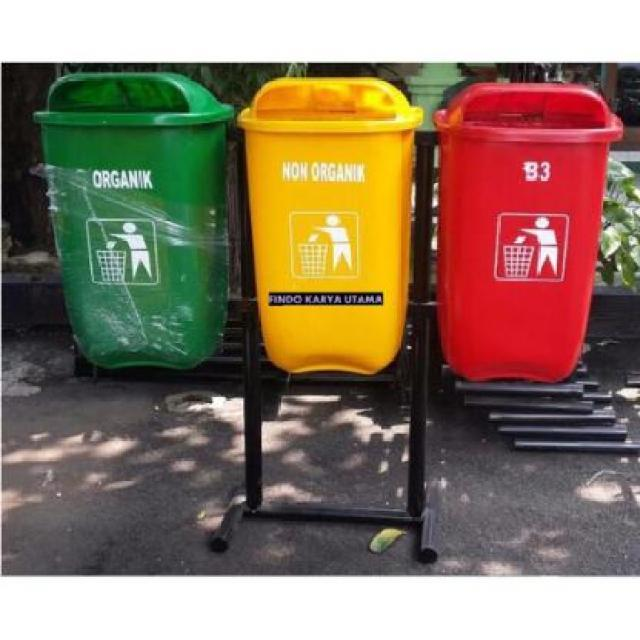garbage container: (29, 61, 242, 392), (233, 72, 430, 398), (429, 79, 628, 395)
